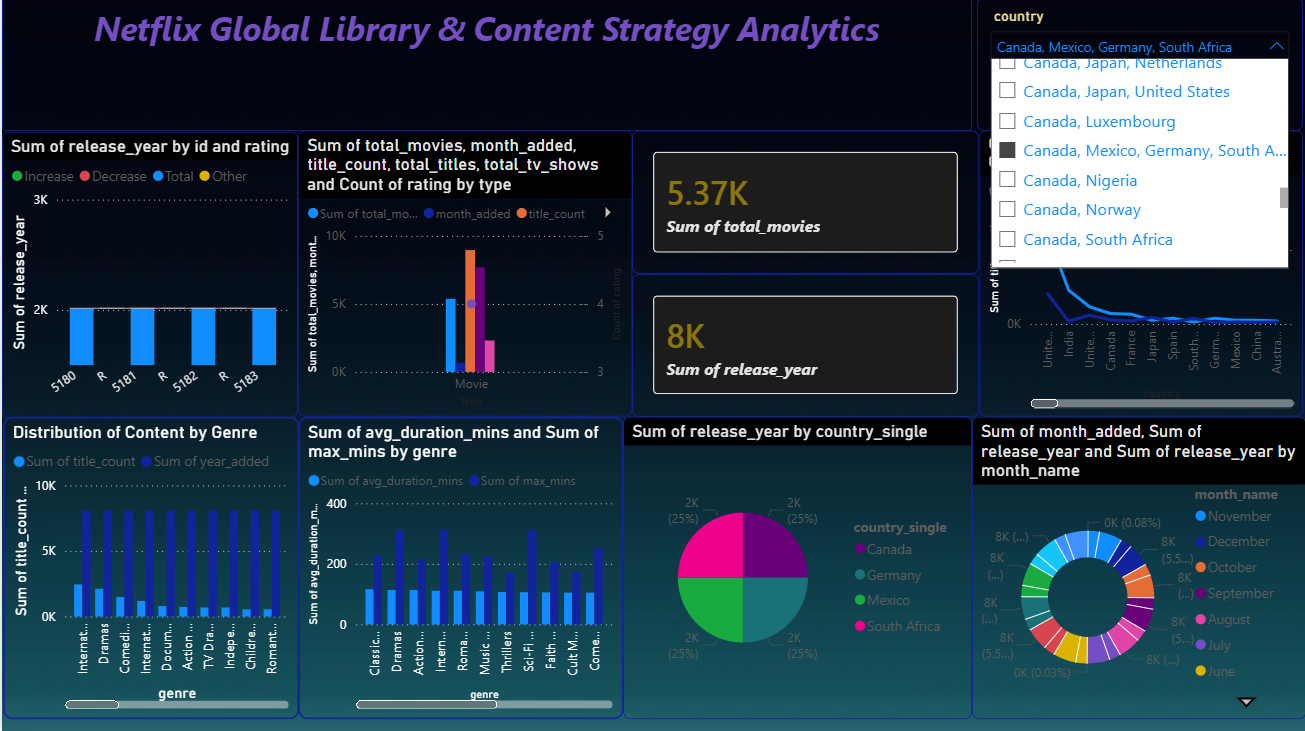

The dashboard page shown, as its layout file describes it:
{"tool":"powerbi","page":{"name":"Page 1","canvas":[1280,720],"ordinal":0},"visuals":[{"type":"clusteredColumnChart","title":"Distribution of Content by Genre","fields":{"Category":["netflix_db v_genre_counts.genre"],"Y":["Sum(netflix_db v_genre_counts.title_count)","Sum(netflix_db netflix_countries.year_added)"]},"box":[1.2,411,290.8,296.9],"z":0},{"type":"pieChart","fields":{"Category":["netflix_db netflix_countries.country_single"],"Y":["Sum(netflix_db netflix_countries.release_year)"]},"box":[609.8,411,342.3,296.9],"z":1000},{"type":"donutChart","fields":{"Y":["Sum(netflix_db v_monthly_additions.month_added)","Sum(netflix_db netflix_genres.release_year)","Sum(netflix_db netflix_countries.release_year)"],"Category":["netflix_db v_monthly_additions.month_name"]},"box":[952.2,411,327.6,296.9],"z":2000},{"type":"lineClusteredColumnComboChart","fields":{"Y":["Sum(netflix_db v_movie_duration.avg_duration_mins)","Sum(netflix_db v_movie_duration.max_mins)"],"Category":["netflix_db v_movie_duration.genre"]},"box":[290.8,411,319,296.9],"z":3000},{"type":"textbox","box":[0,0,952.2,130.1],"z":4000},{"type":"lineClusteredColumnComboChart","fields":{"Y":["Sum(netflix_db v_kpi_summary.total_movies)","Sum(netflix_db v_monthly_additions.month_added)","Sum(netflix_db v_country_counts.title_count)","Sum(netflix_db v_kpi_summary.total_titles)","Sum(netflix_db v_kpi_summary.total_tv_shows)"],"Category":["netflix_db netflix_countries.type"],"Y2":["CountNonNull(netflix_db netflix_countries.rating)"]},"box":[290.8,130.1,327.6,281],"z":5000},{"type":"cardVisual","fields":{"Data":["Sum(netflix_db v_kpi_summary.total_movies)"]},"box":[618.4,130.1,341.1,141.1],"z":6000},{"type":"cardVisual","fields":{"Data":["Sum(netflix_db netflix_countries.release_year)"]},"box":[618.4,271.2,341.1,139.9],"z":7000},{"type":"slicer","fields":{"Values":["netflix_db netflix_titles.country"]},"box":[957.1,0,320.2,130.1],"z":8000},{"type":"waterfallChart","fields":{"Category":["netflix_db netflix_countries.id"],"Breakdown":["netflix_db netflix_countries.rating"],"Y":["Sum(netflix_db netflix_countries.release_year)"]},"box":[0,131.3,290.8,281],"z":9000},{"type":"lineChart","title":"Contant Distribution Across production Countries","fields":{"Category":["netflix_db v_country_counts.country"],"Series":["netflix_db v_country_counts.type"],"Y":["Sum(netflix_db v_country_counts.title_count)"]},"box":[959.5,130.1,317.8,281],"z":10000}]}

Visuals, with their boxes in screenshot pixels (x1, y1, x2, y2), scaled from the page's 1280x720 canvas onto the 1305x731 screenshot:
"Distribution of Content by Genre" clusteredColumnChart: rect(1, 417, 298, 719)
pieChart - netflix_db netflix_countries.country_single x Sum(netflix_db netflix_countries.release_year): rect(622, 417, 971, 719)
donutChart - Sum(netflix_db v_monthly_additions.month_added) x Sum(netflix_db netflix_genres.release_year): rect(971, 417, 1304, 719)
lineClusteredColumnComboChart - Sum(netflix_db v_movie_duration.avg_duration_mins) x Sum(netflix_db v_movie_duration.max_mins): rect(296, 417, 622, 719)
textbox: rect(0, 0, 971, 132)
lineClusteredColumnComboChart - Sum(netflix_db v_kpi_summary.total_movies) x Sum(netflix_db v_monthly_additions.month_added): rect(296, 132, 630, 417)
cardVisual - Sum(netflix_db v_kpi_summary.total_movies): rect(630, 132, 978, 275)
cardVisual - Sum(netflix_db netflix_countries.release_year): rect(630, 275, 978, 417)
slicer - netflix_db netflix_titles.country: rect(976, 0, 1302, 132)
waterfallChart - netflix_db netflix_countries.id x netflix_db netflix_countries.rating: rect(0, 133, 296, 419)
"Contant Distribution Across production Countries" lineChart: rect(978, 132, 1302, 417)
